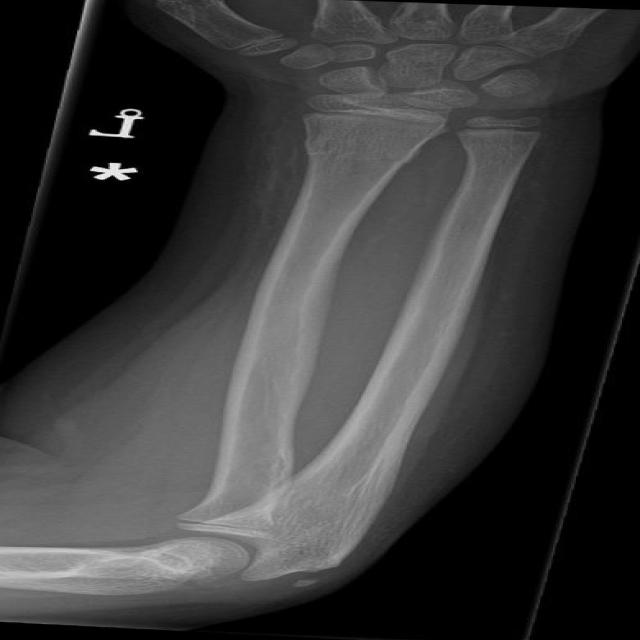Transverse Displaced: (296, 131, 418, 175)
